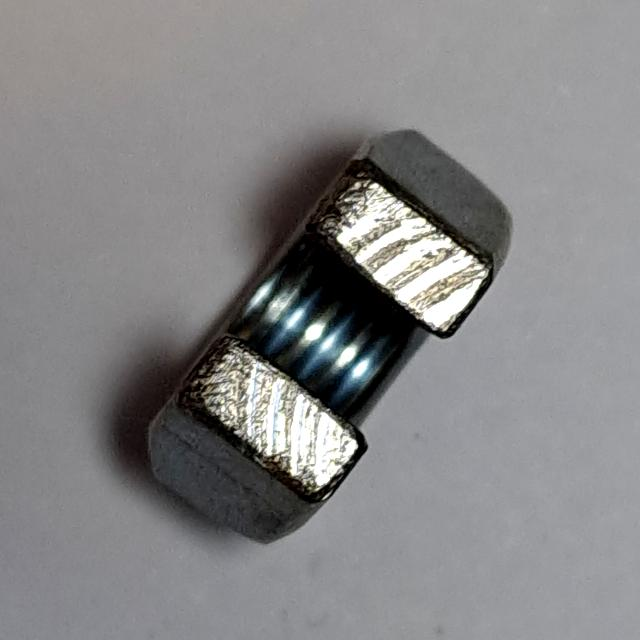Side-Fracture: (130, 115, 524, 570)
